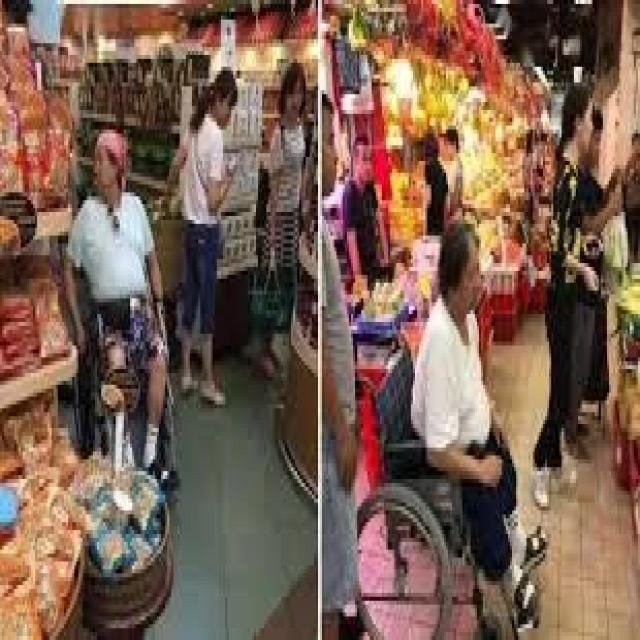wheelchairs: (355, 318, 504, 636), (60, 255, 192, 499)
